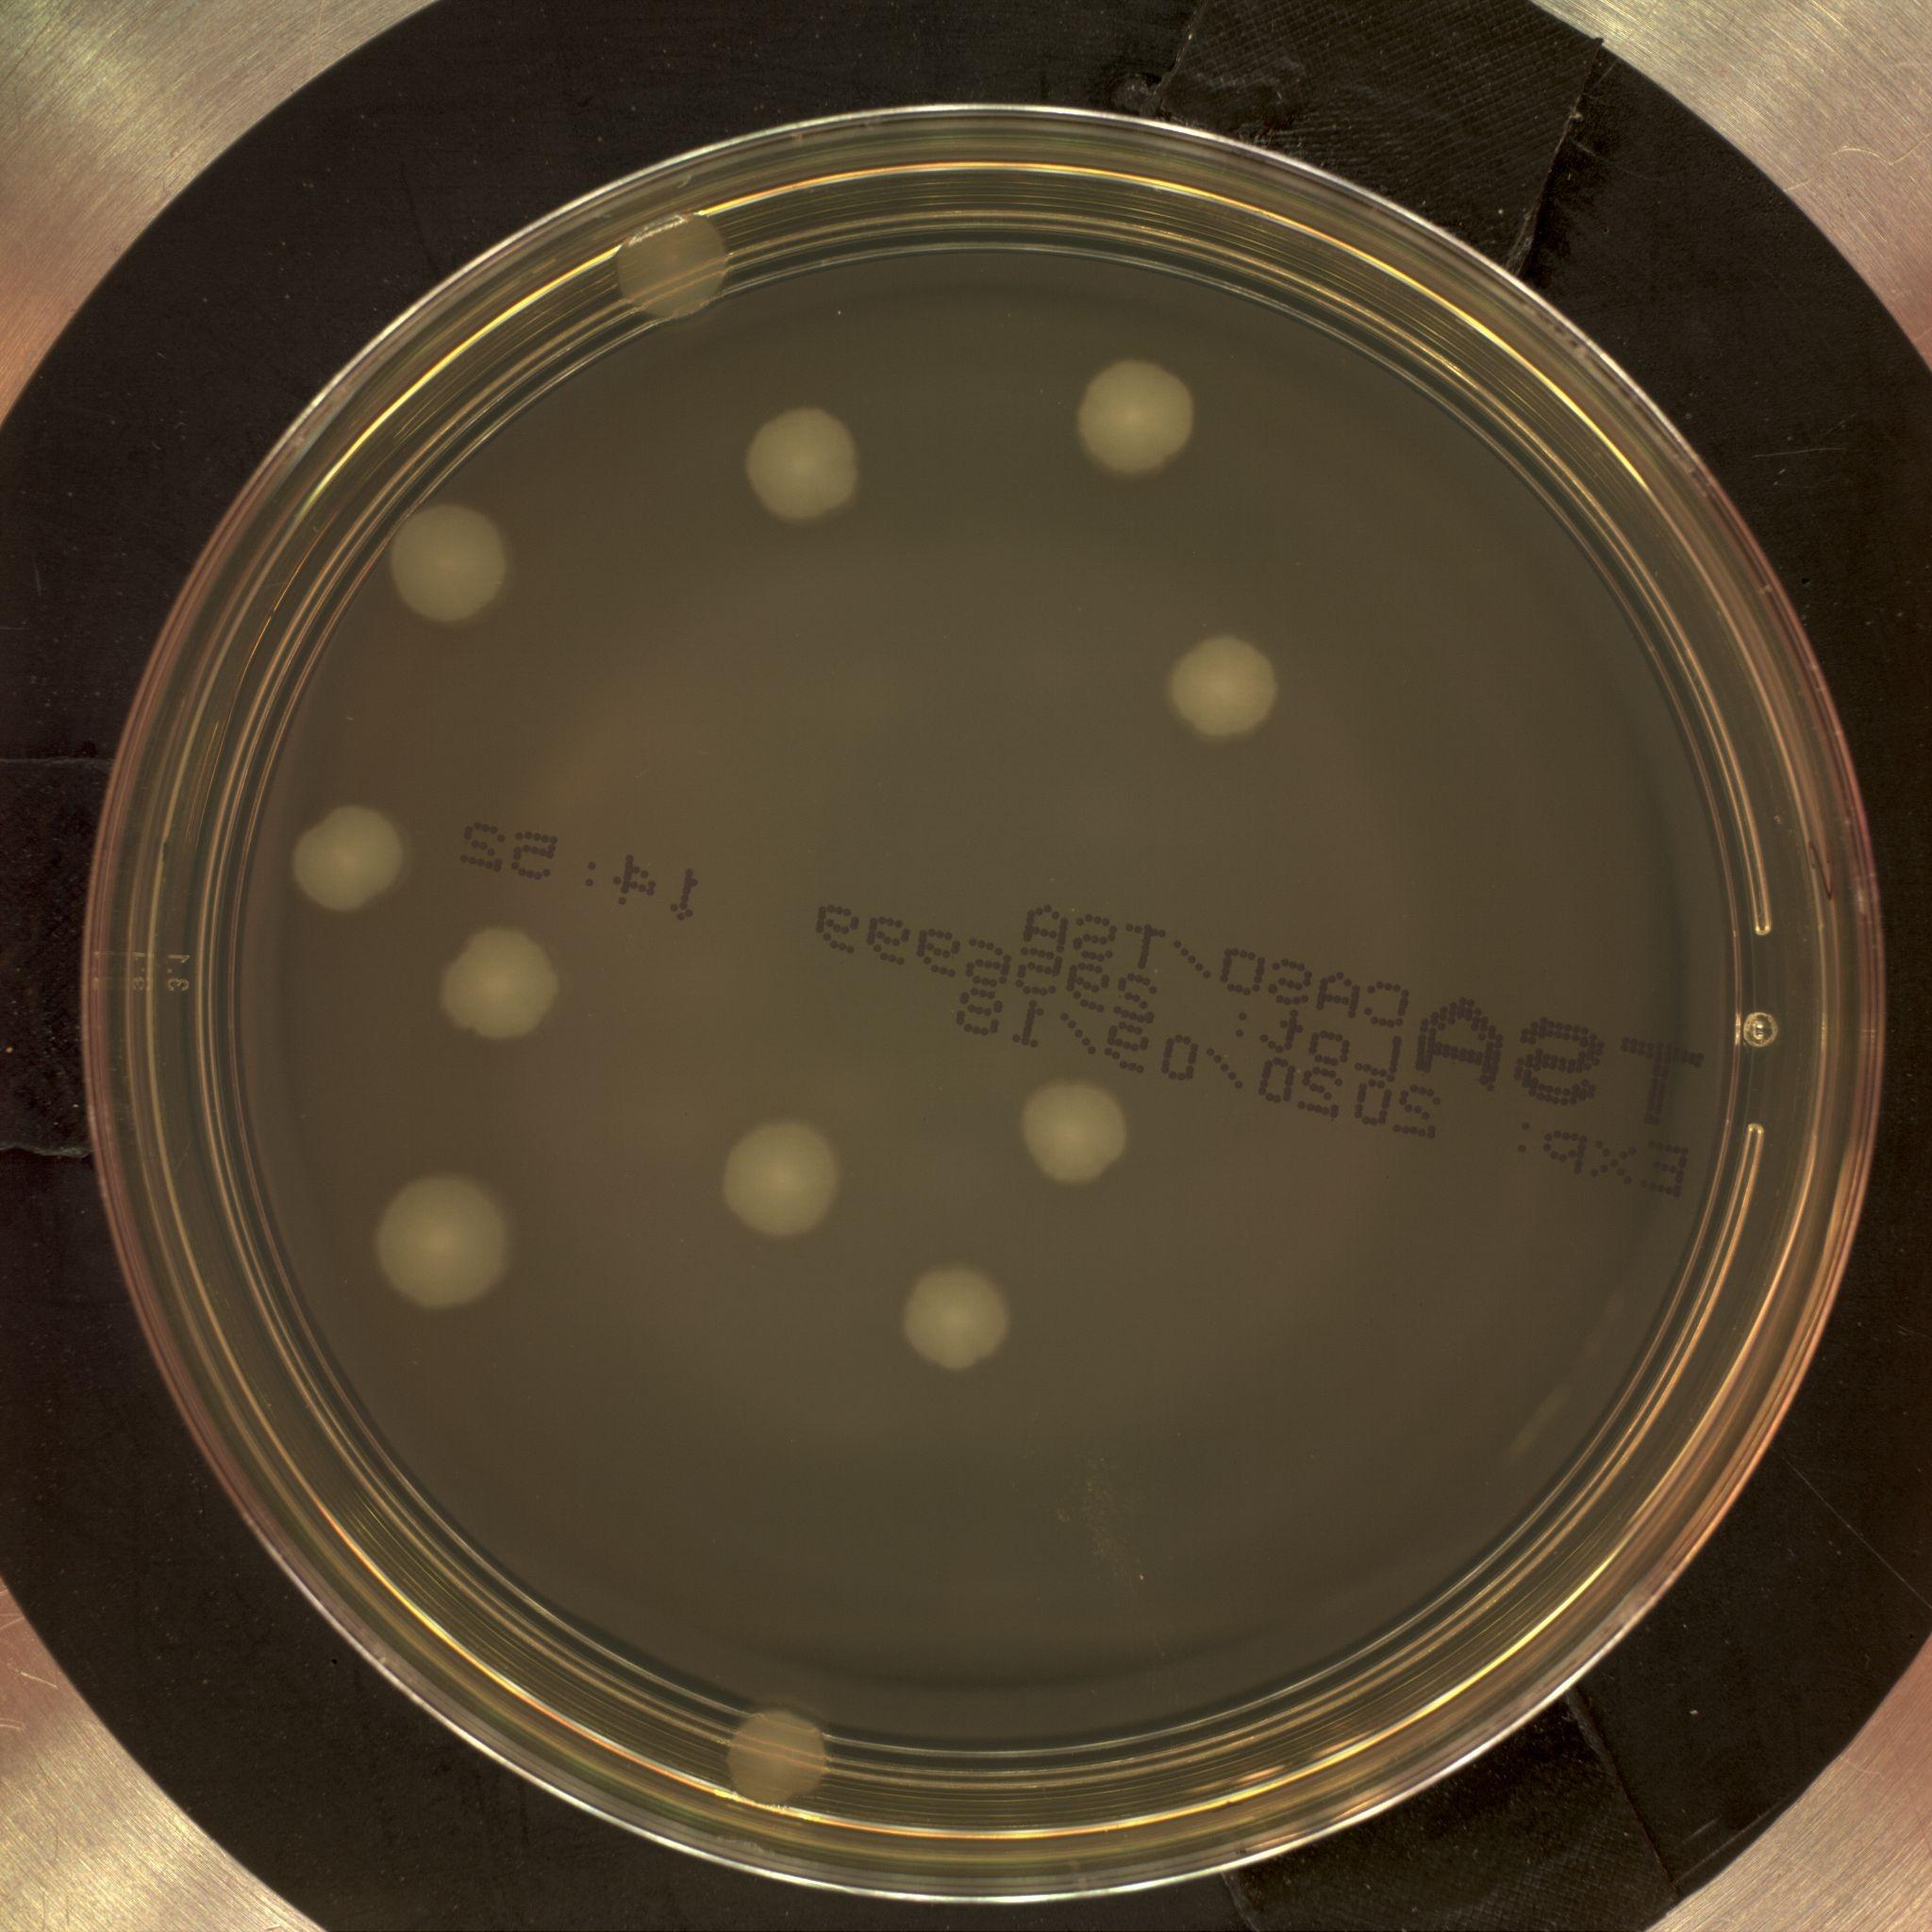e. coli: (430, 911, 587, 1085), (373, 487, 525, 646), (732, 387, 879, 529), (280, 798, 432, 934), (373, 1166, 520, 1306), (708, 1118, 874, 1240), (1067, 349, 1219, 481), (906, 1246, 1035, 1401), (1161, 614, 1293, 759), (609, 207, 747, 340), (713, 1698, 842, 1829), (1001, 1067, 1138, 1189)
